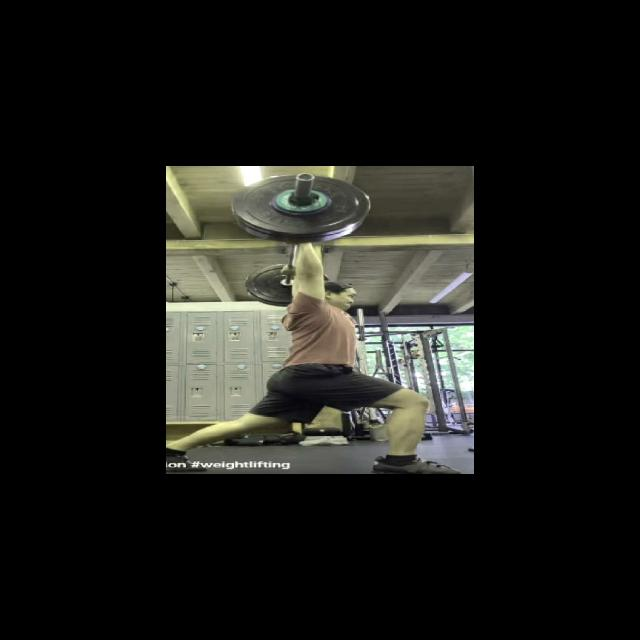barbell: (232, 171, 378, 243)
